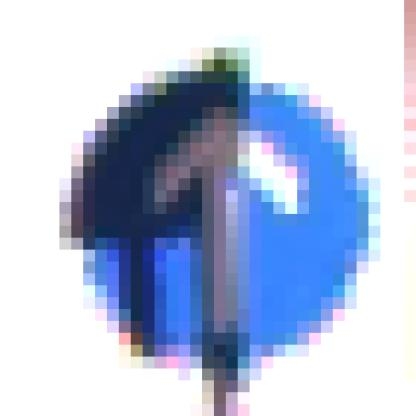AheadOnly: (61, 60, 358, 346)
